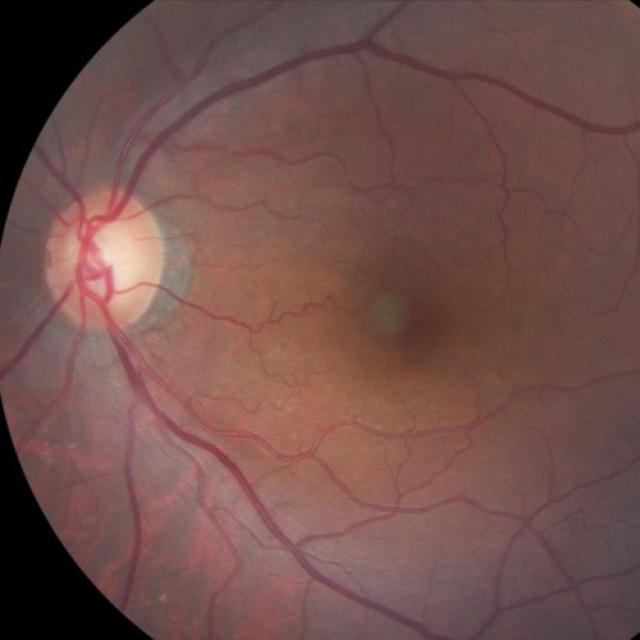OC: (72, 218, 141, 300)
OD: (47, 190, 167, 332)
